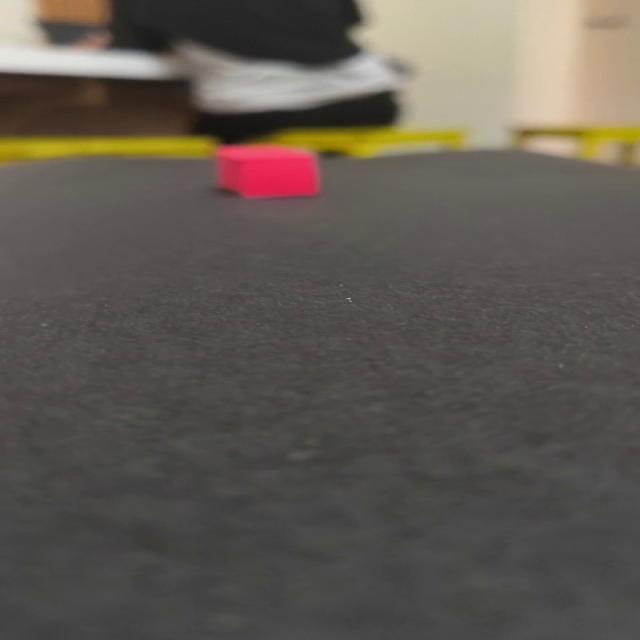red block: (214, 142, 322, 199)
